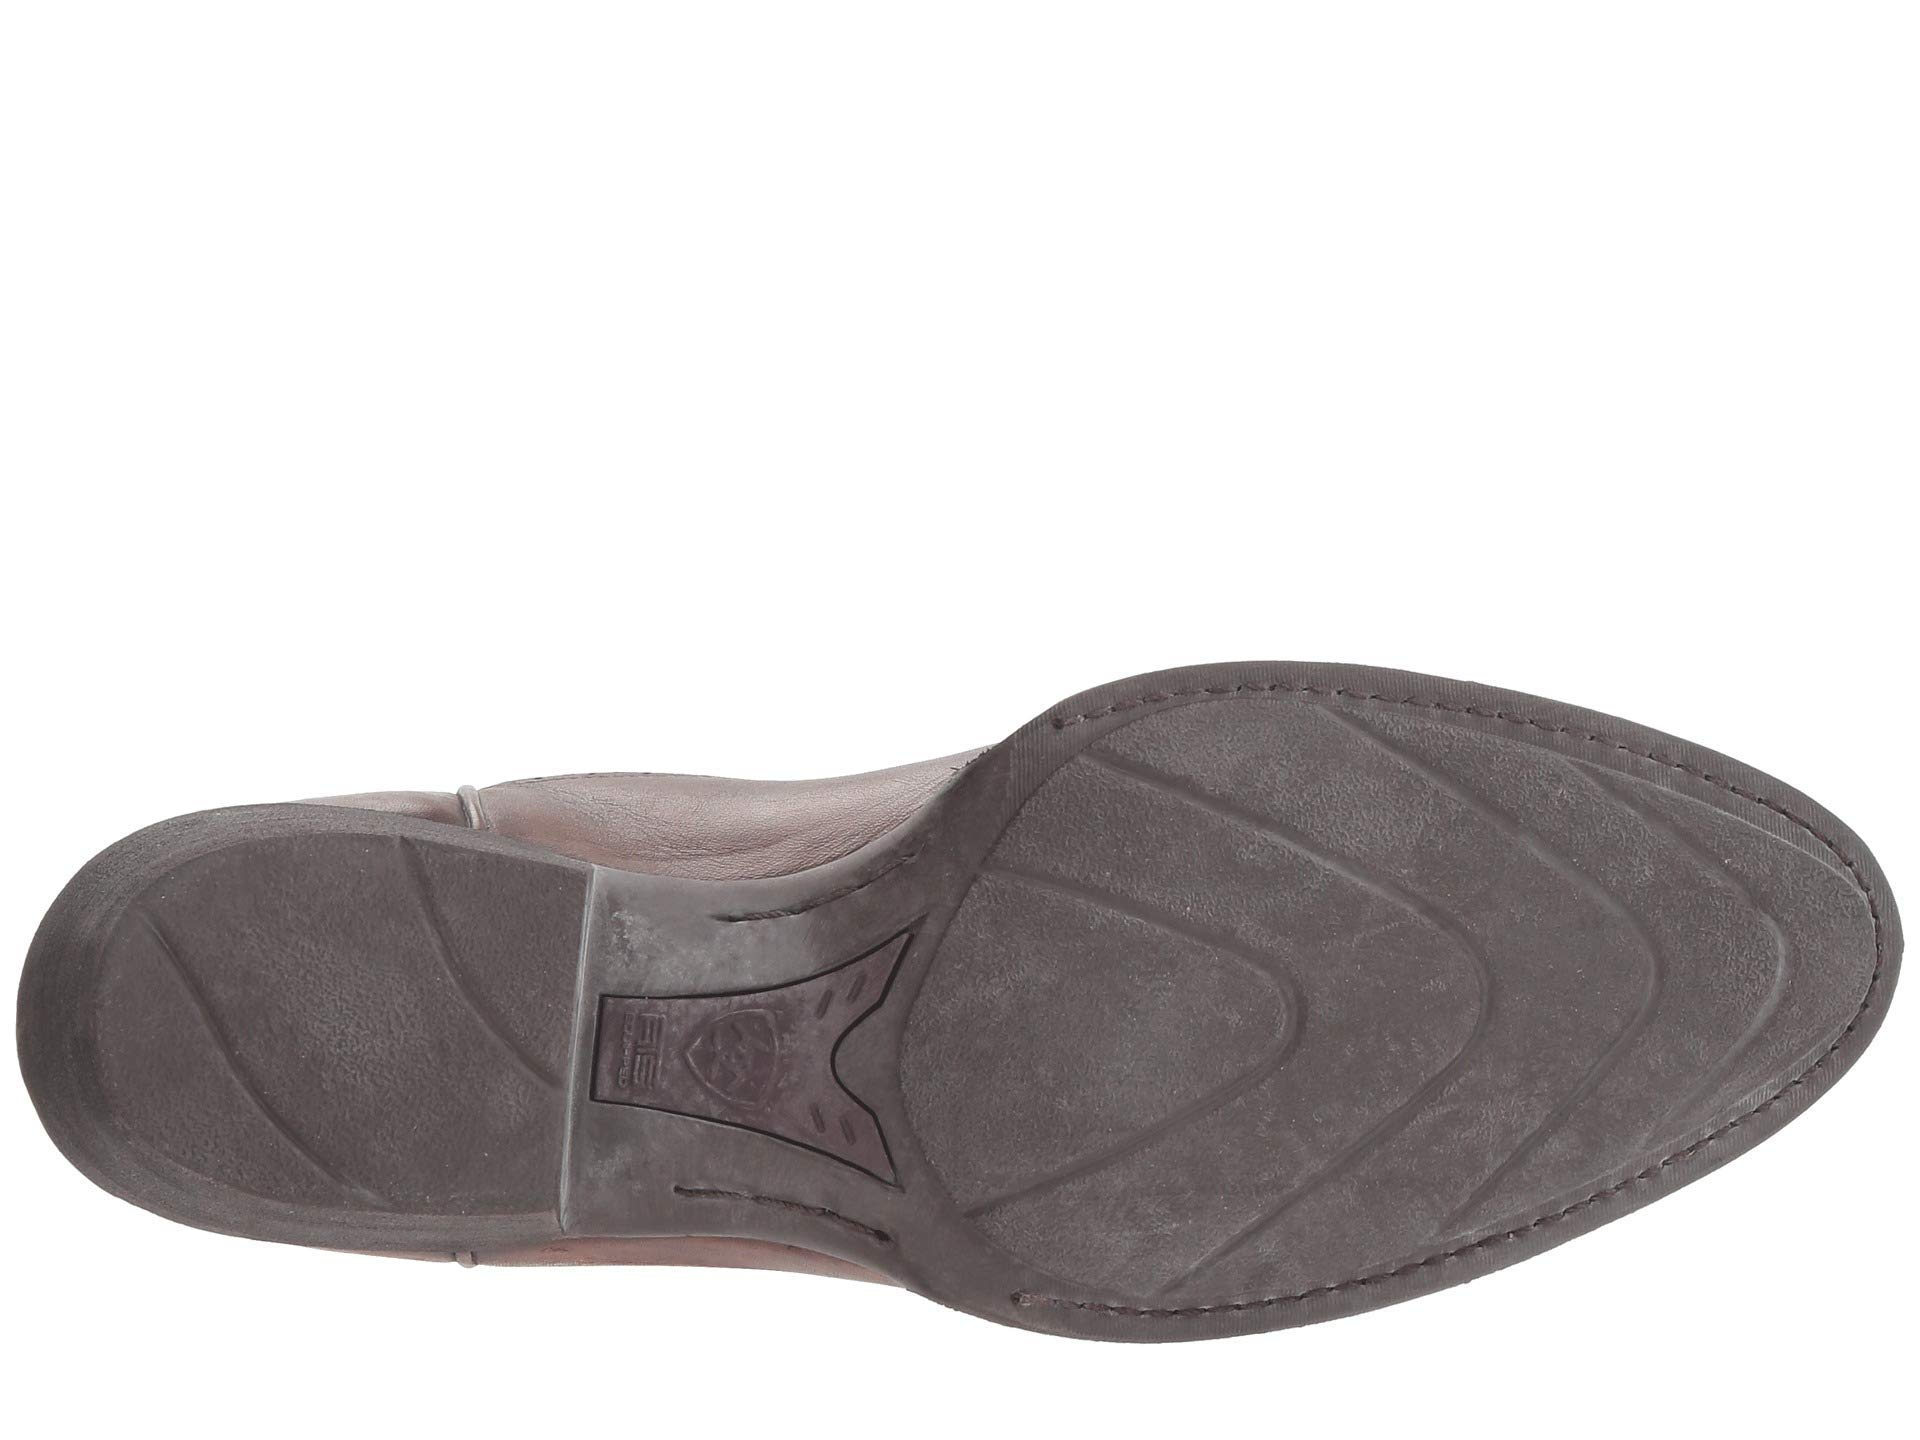line: (1203, 767, 1633, 1186), (1654, 843, 1804, 1059)
